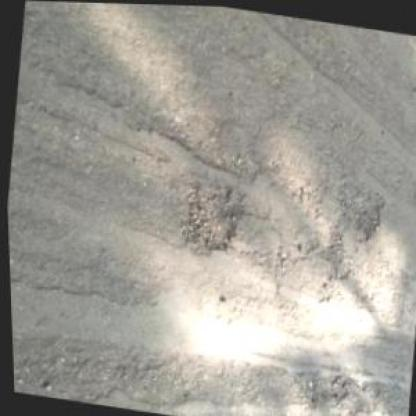pothole: (173, 174, 247, 260), (342, 180, 386, 244)
